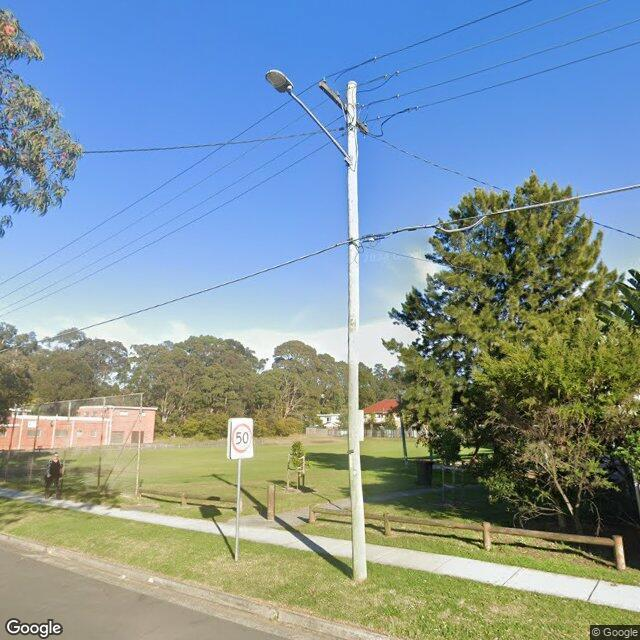crossarm: (317, 78, 370, 137)
streetlight: (265, 70, 351, 167)
timber-pole: (346, 80, 367, 579)
